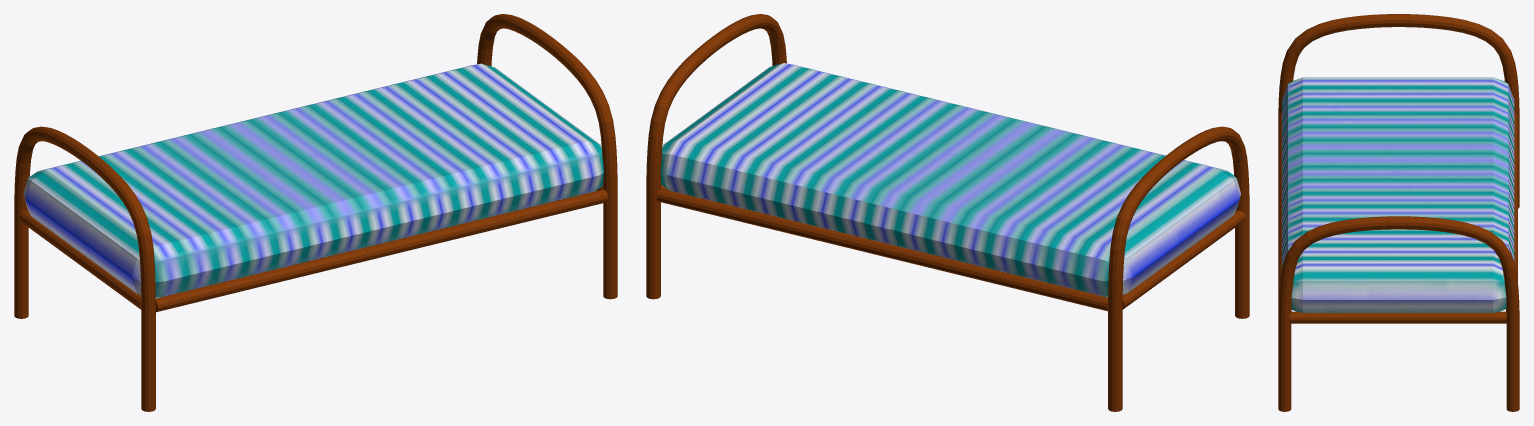
File: кровать1.fbx
3 renders of one model, left to right at view 1: azimuth 30°, elevation 25°; view 2: azimuth 150°, elevation 25°; view 3: azimuth 270°, elevation 25°, orthographic. The views are drawn at different scales.
Parts seen in each view (by area): view 1: кровать; view 2: кровать; view 3: кровать.
Boxes of the visible parts, x1=… form: кровать: x1=14, y1=14, x2=617, y2=411; кровать: x1=646, y1=14, x2=1249, y2=411; кровать: x1=1278, y1=14, x2=1519, y2=411.
Size of the model in its own units: 423 by 182 by 207.
